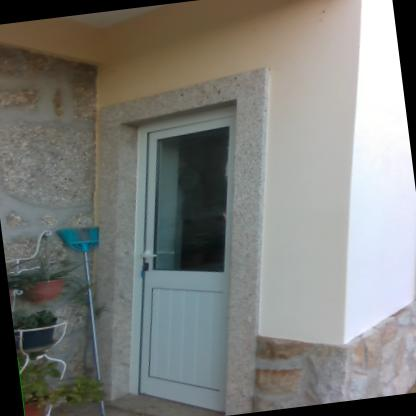closed: (91, 90, 289, 415)
